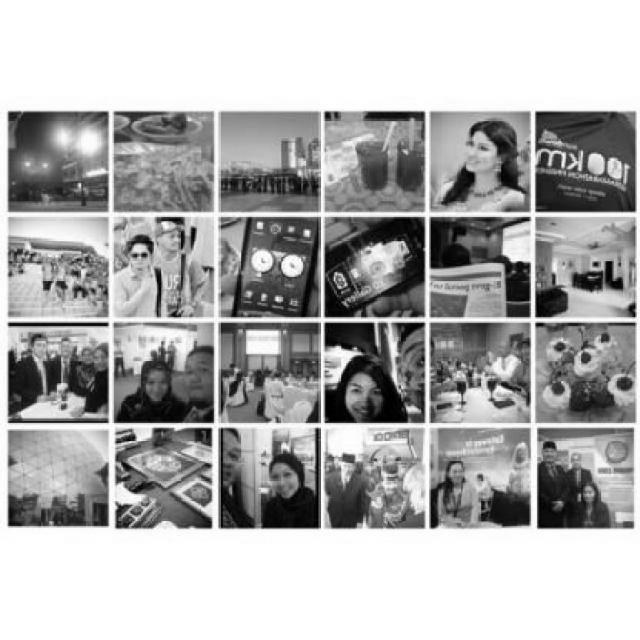fake: (218, 204, 326, 328), (326, 216, 428, 318)
